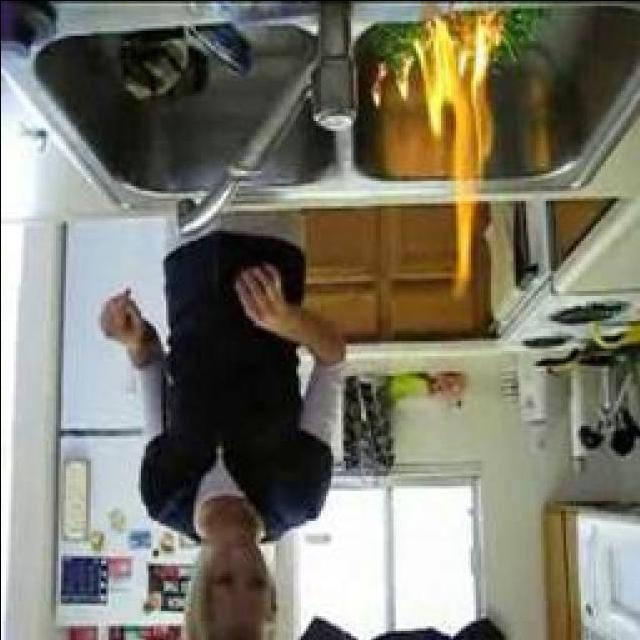Fire: (409, 10, 499, 288), (370, 52, 418, 110)
